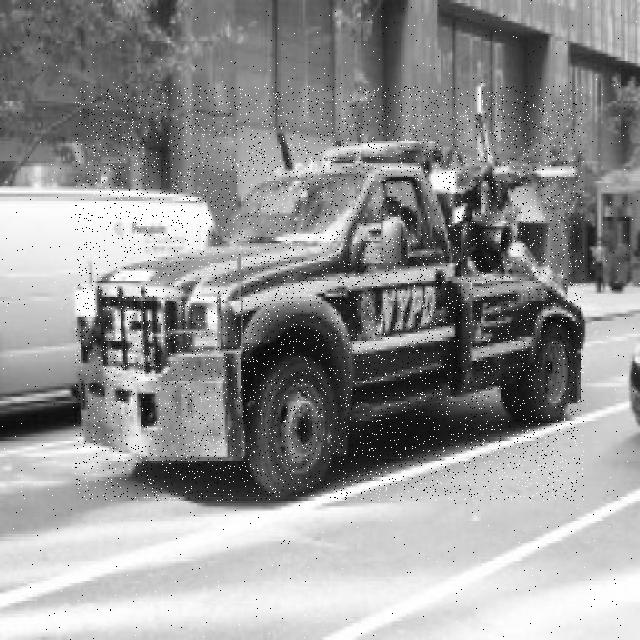Tow Truck: (75, 86, 584, 501)
